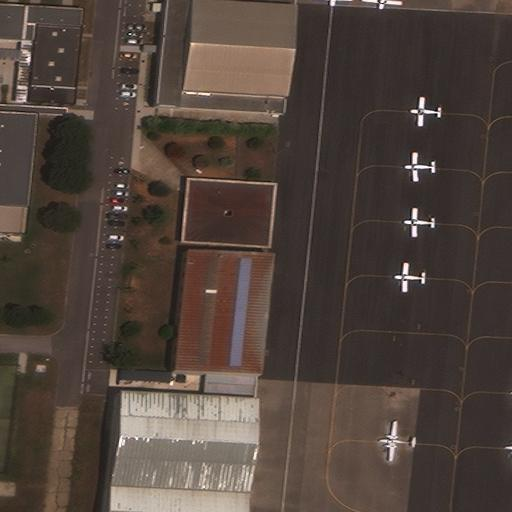Small Civil Transport: (376, 421, 418, 461), (402, 206, 436, 239), (391, 263, 427, 292), (408, 96, 442, 126), (404, 152, 435, 182), (360, 0, 402, 9), (311, 0, 352, 7)
